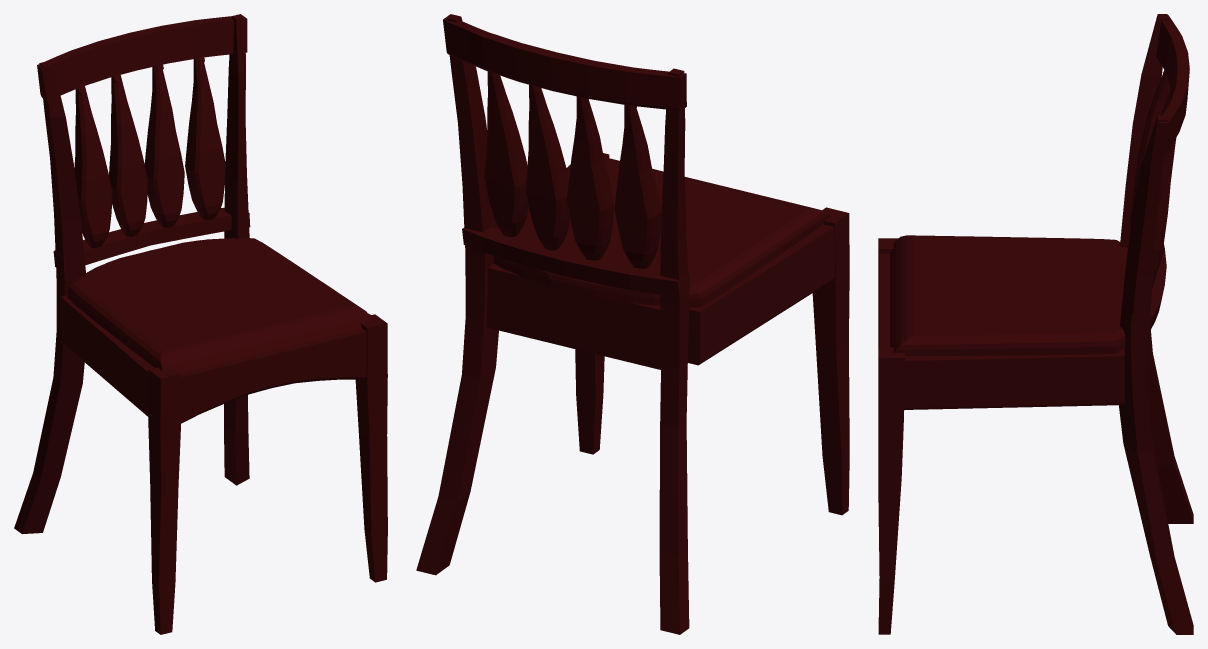
Rendered from krzeslo-pionek.glb.
3 renders of one model, left to right at view 1: azimuth 30°, elevation 25°; view 2: azimuth 150°, elevation 25°; view 3: azimuth 270°, elevation 25°, orthographic. The views are drawn at different scales.
Parts seen in each view (by area): view 1: krzeslo; view 2: krzeslo; view 3: krzeslo.
Boxes of the visible parts, x1=… form: krzeslo: x1=14, y1=14, x2=387, y2=634; krzeslo: x1=416, y1=14, x2=849, y2=634; krzeslo: x1=878, y1=14, x2=1193, y2=634.
Size of the model in its own units: 1.15 by 2.25 by 1.27.
